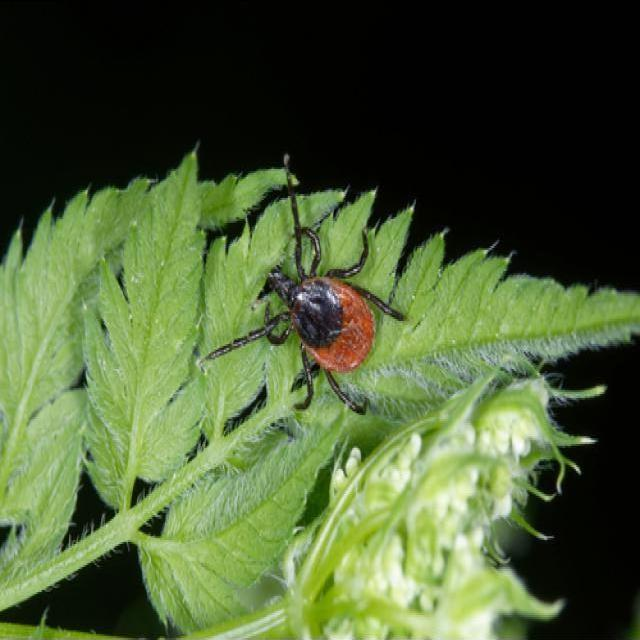Ixodes Ricinus-F: (206, 154, 404, 417)
